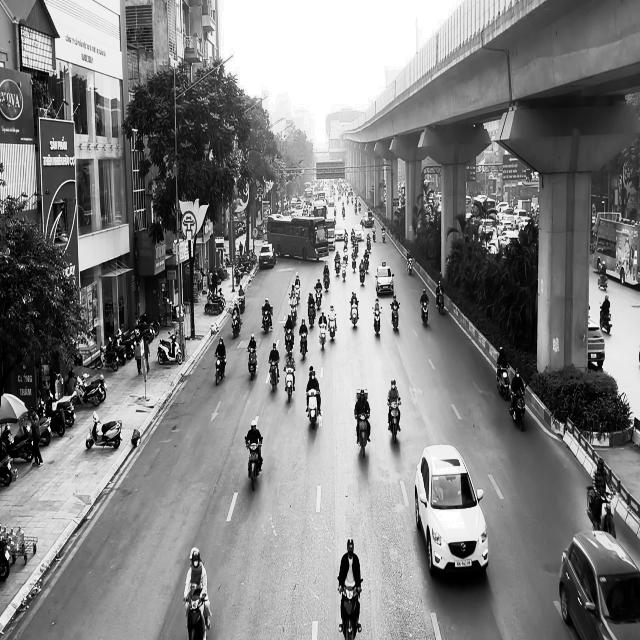bus: (592, 214, 640, 288), (266, 213, 329, 261)
car: (414, 443, 489, 577), (558, 530, 640, 640), (588, 316, 605, 371), (375, 265, 394, 294), (258, 243, 276, 269), (353, 223, 364, 240)
motorbike: (338, 578, 362, 639), (86, 410, 122, 450), (183, 588, 209, 639), (245, 436, 262, 491), (157, 330, 183, 364), (508, 387, 526, 430), (354, 412, 370, 457), (387, 398, 401, 442), (306, 389, 321, 429), (496, 363, 510, 400), (283, 368, 295, 402), (268, 358, 280, 392), (599, 304, 612, 334), (214, 353, 226, 385), (246, 348, 258, 380), (231, 309, 242, 338), (261, 306, 272, 333), (372, 306, 382, 335), (349, 300, 359, 328), (390, 302, 400, 330), (284, 327, 294, 355), (288, 298, 298, 325), (299, 332, 308, 361), (318, 322, 327, 350), (328, 315, 337, 340), (307, 303, 316, 327), (420, 300, 428, 326), (436, 290, 444, 314), (359, 263, 365, 286), (406, 257, 413, 275), (341, 260, 346, 281)
